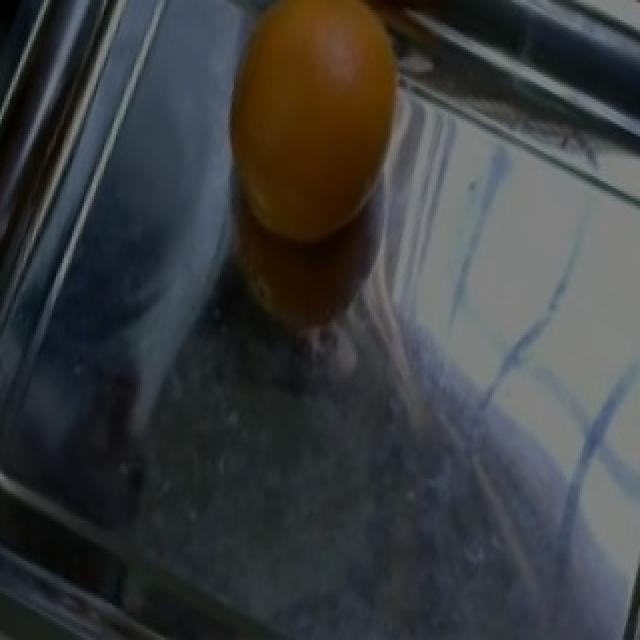Fruit: (200, 0, 432, 268)
